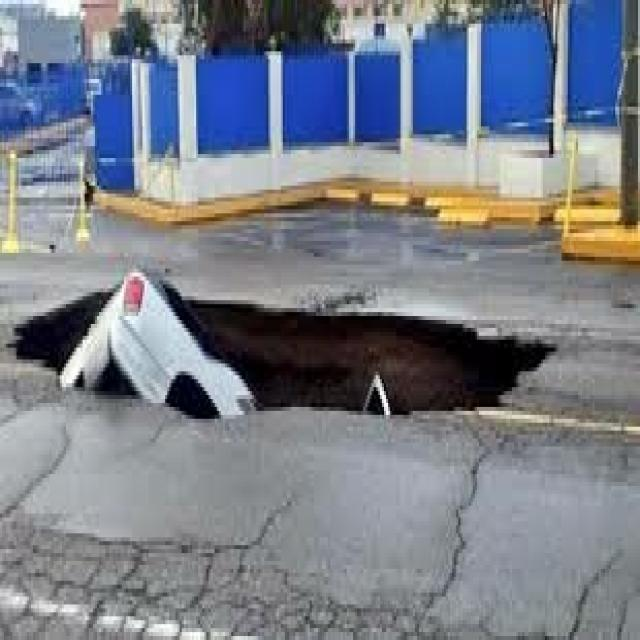Pothole: (11, 264, 588, 522)
